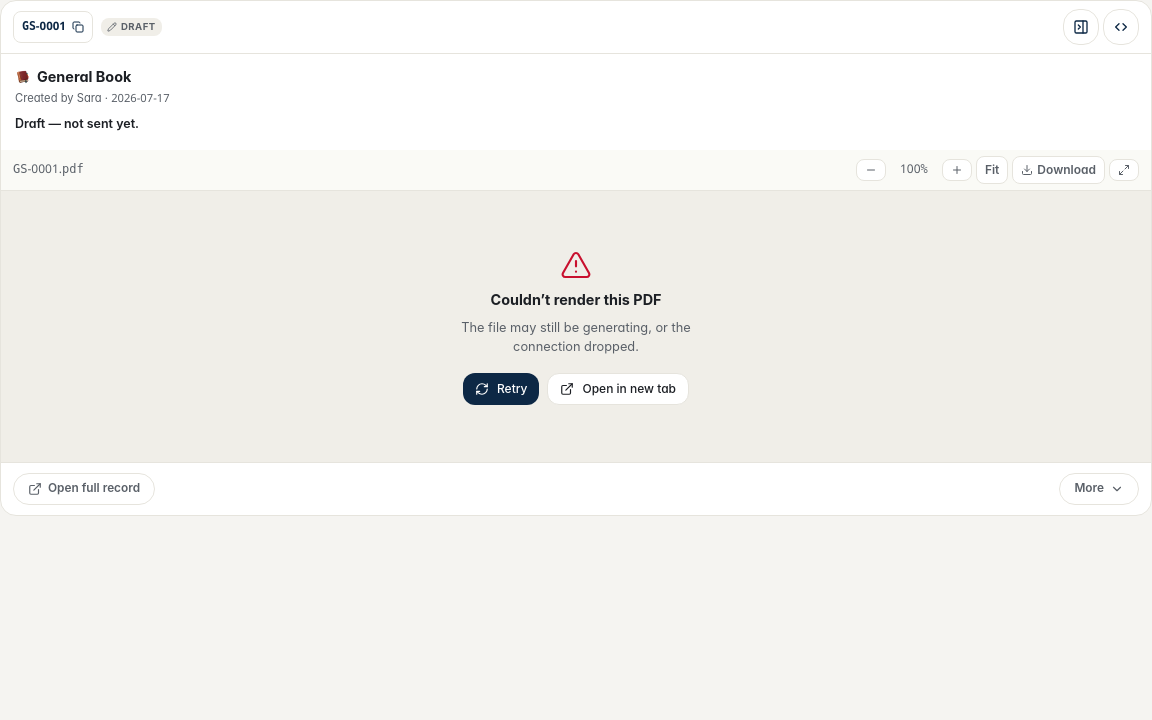
it: RecordPane footer › recipient tools › lives in More, not in the preview body
Expected: the link "Open full record" is shown, 13,473 -> 155,505
Expected: the button "Mark as done" is not shown
Step 1. Click the button "More" → (1099, 489), box 1060,473 -> 1139,505
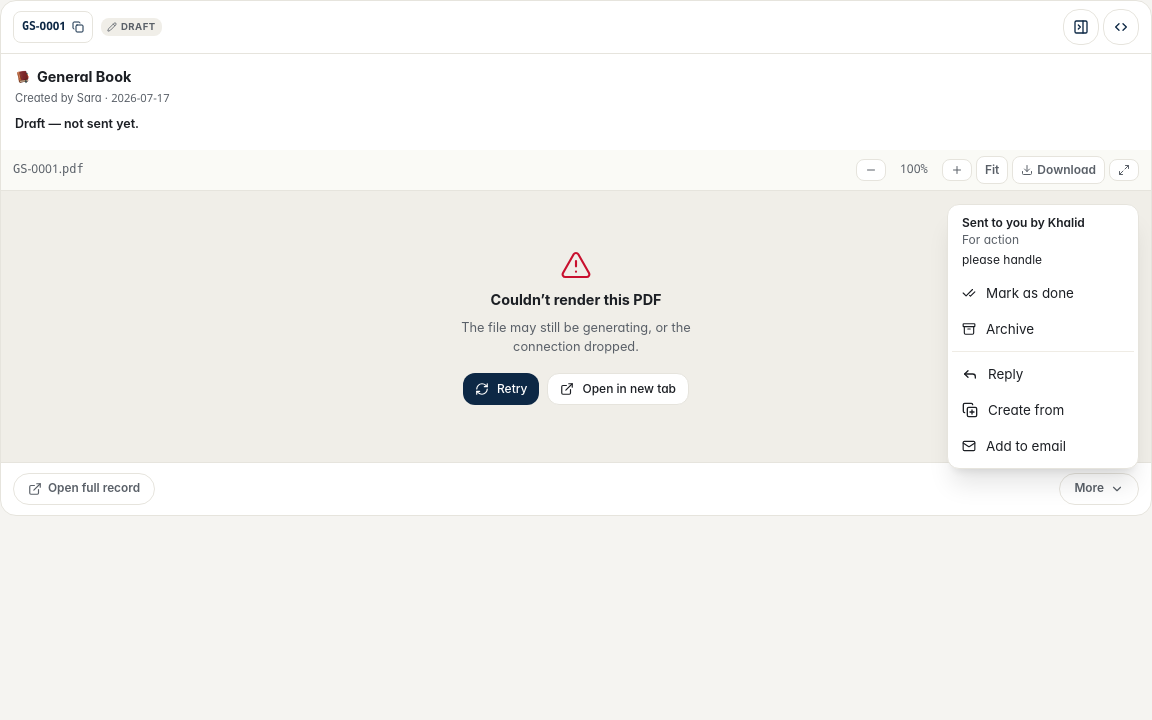
Expected: the menu shows "please handle", 962,252 -> 1042,267
Expected: the menu item "Archive" is shown, 962,321 -> 1034,337
